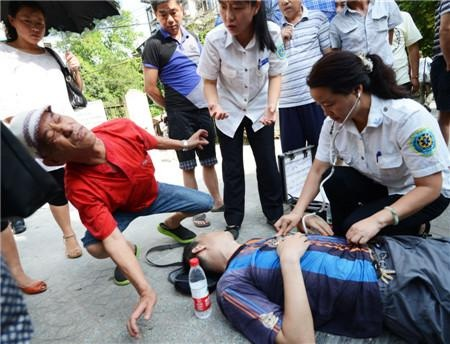falling: (181, 207, 450, 344)
